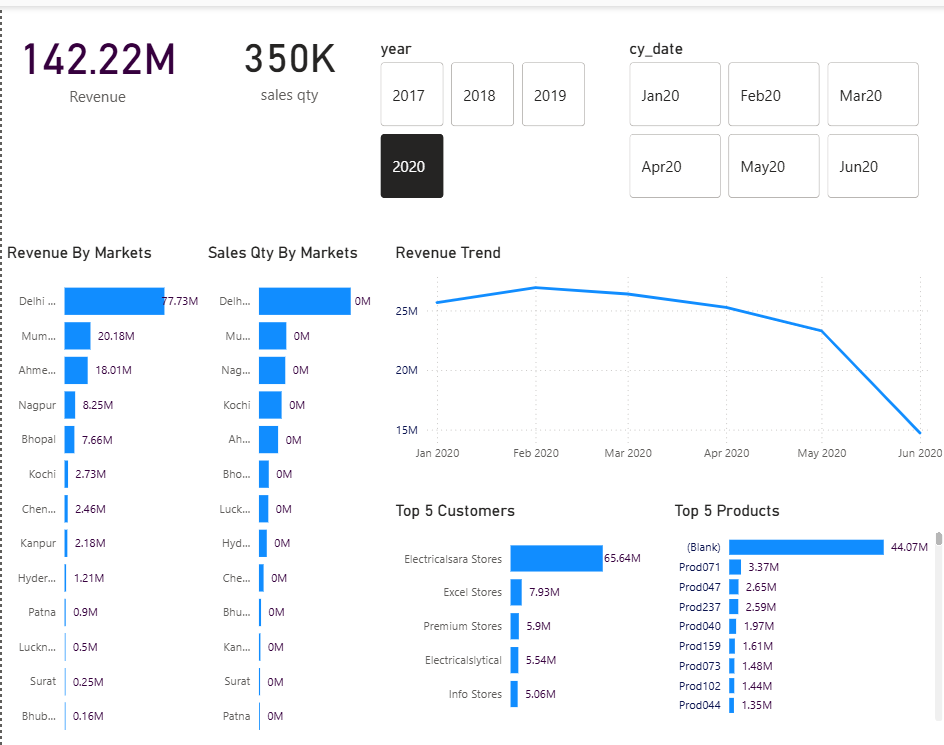

This screenshot's page, from the dashboard's own definition file:
{"tool":"powerbi","page":{"name":"Page 1","canvas":[1003,787],"ordinal":0},"visuals":[{"type":"card","fields":{"Values":["Base Measures.Revenue"]},"box":[0,0,202.1,122.5],"z":0},{"type":"card","fields":{"Values":["Base Measures.sales qty"]},"box":[213.2,0,183,122.5],"z":1000},{"type":"barChart","title":"Revenue By Markets","fields":{"Y":["Base Measures.Revenue"],"Category":["sales markets.markets_name"]},"box":[0,251.4,213.2,536.2],"z":2000},{"type":"barChart","title":"Sales Qty By Markets","fields":{"Y":["Base Measures.sales qty"],"Category":["sales markets.markets_name"]},"box":[213.2,251.4,183,536.2],"z":3000},{"type":"advancedSlicerVisual","fields":{"Values":["sales date.year"]},"box":[396.2,35,227.5,175],"z":4000},{"type":"advancedSlicerVisual","fields":{"Values":["sales date.cy_date"]},"box":[660.3,35,318.2,175],"z":5000},{"type":"barChart","title":"Top 5 Customers","fields":{"Y":["Base Measures.Revenue"],"Category":["sales customers.custmer_name"]},"box":[412.1,525,270.5,238.7],"z":5001},{"type":"barChart","title":"Top 5 Products","fields":{"Y":["Base Measures.Revenue"],"Category":["sales products.product_code"]},"box":[708,525,294.3,238.7],"z":5002},{"type":"lineChart","title":"Revenue Trend","fields":{"Y":["Base Measures.Revenue"],"Category":["sales date.cy_date.Variation.Date Hierarchy.Year","sales date.cy_date.Variation.Date Hierarchy.Quarter","sales date.cy_date.Variation.Date Hierarchy.Month","sales date.cy_date.Variation.Date Hierarchy.Day"]},"box":[412.1,251.4,590.3,240.2],"z":5003}]}

Visuals, with their boxes in screenshot pixels (x1, y1, x2, y2), scaled from the page's 1003x787 canvas onto the 944x745 screenshot:
card - Base Measures.Revenue: Rect(0, 0, 190, 116)
card - Base Measures.sales qty: Rect(201, 0, 373, 116)
"Revenue By Markets" barChart: Rect(0, 238, 201, 744)
"Sales Qty By Markets" barChart: Rect(201, 238, 373, 744)
advancedSlicerVisual - sales date.year: Rect(373, 33, 587, 199)
advancedSlicerVisual - sales date.cy_date: Rect(621, 33, 921, 199)
"Top 5 Customers" barChart: Rect(388, 497, 642, 723)
"Top 5 Products" barChart: Rect(666, 497, 943, 723)
"Revenue Trend" lineChart: Rect(388, 238, 943, 465)
